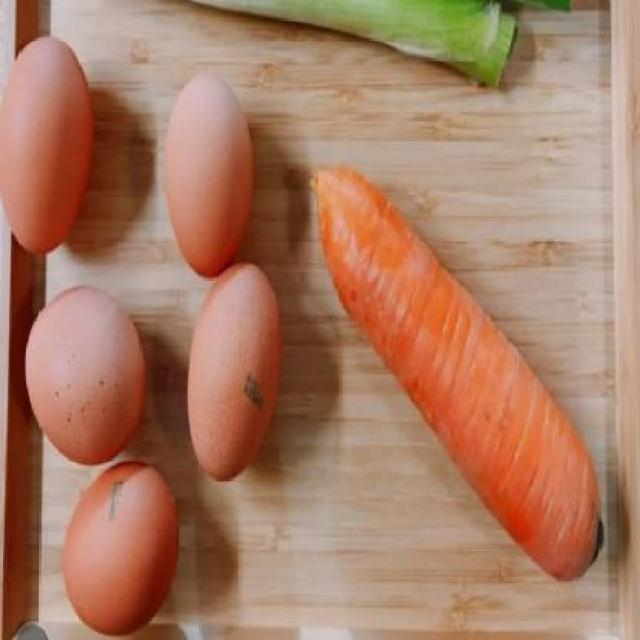carrot: (317, 161, 603, 596)
